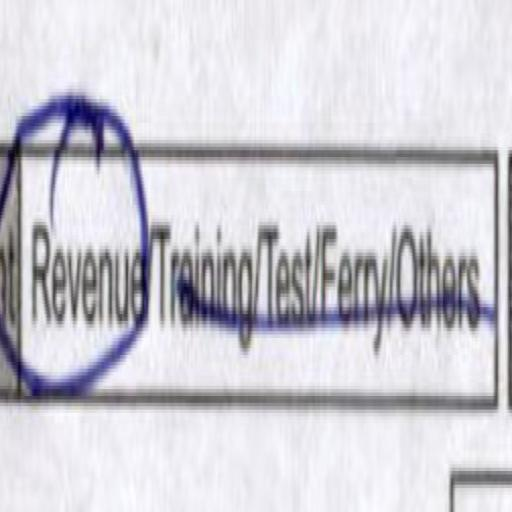check: (2, 66, 156, 444)
